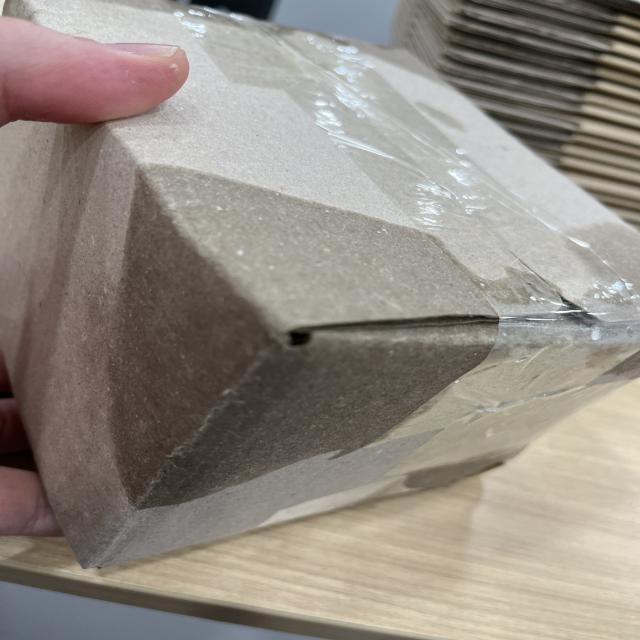wet: (103, 144, 479, 508)
